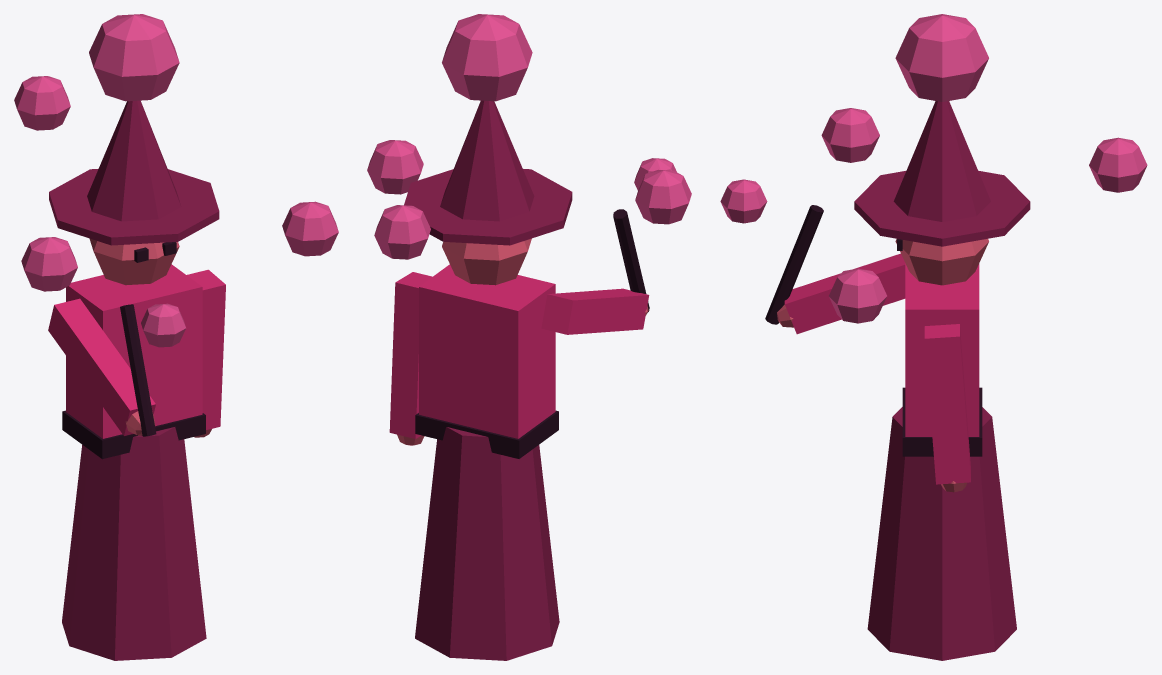
File: SM_Champion_9012_Vega.glb
3 views of the same model, side by side, from view 1: azimuth 30°, elevation 25°; view 2: azimuth 150°, elevation 25°; view 3: azimuth 270°, elevation 25° (orthographic).
Parts seen in each view (by area): view 1: SM_Champion_9012_Vega; view 2: SM_Champion_9012_Vega; view 3: SM_Champion_9012_Vega.
Part boxes in pixels (x1,y1,x2,y2): SM_Champion_9012_Vega: [14, 14, 338, 660]; SM_Champion_9012_Vega: [367, 14, 691, 660]; SM_Champion_9012_Vega: [720, 14, 1147, 660].
Bounding box in the file's own units: 1.52 × 2.84 × 1.79.
